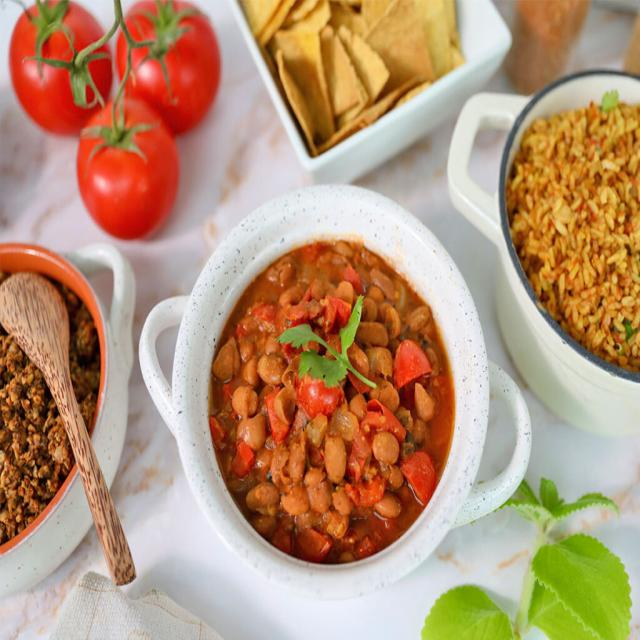arroz: (507, 83, 640, 384)
frijoles: (201, 231, 461, 570)
